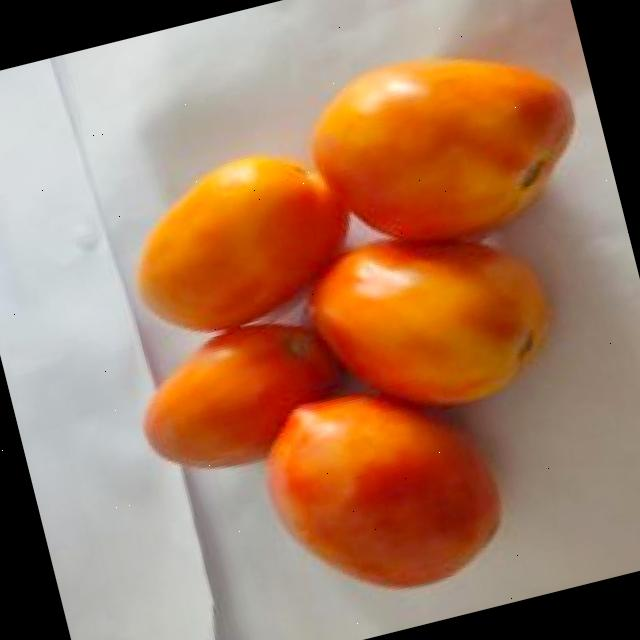tomato: (308, 56, 575, 244), (264, 390, 501, 591), (300, 239, 551, 406), (132, 150, 350, 336), (140, 323, 337, 467)
